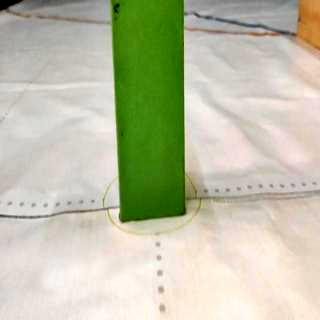greenbox: (111, 2, 190, 224)
